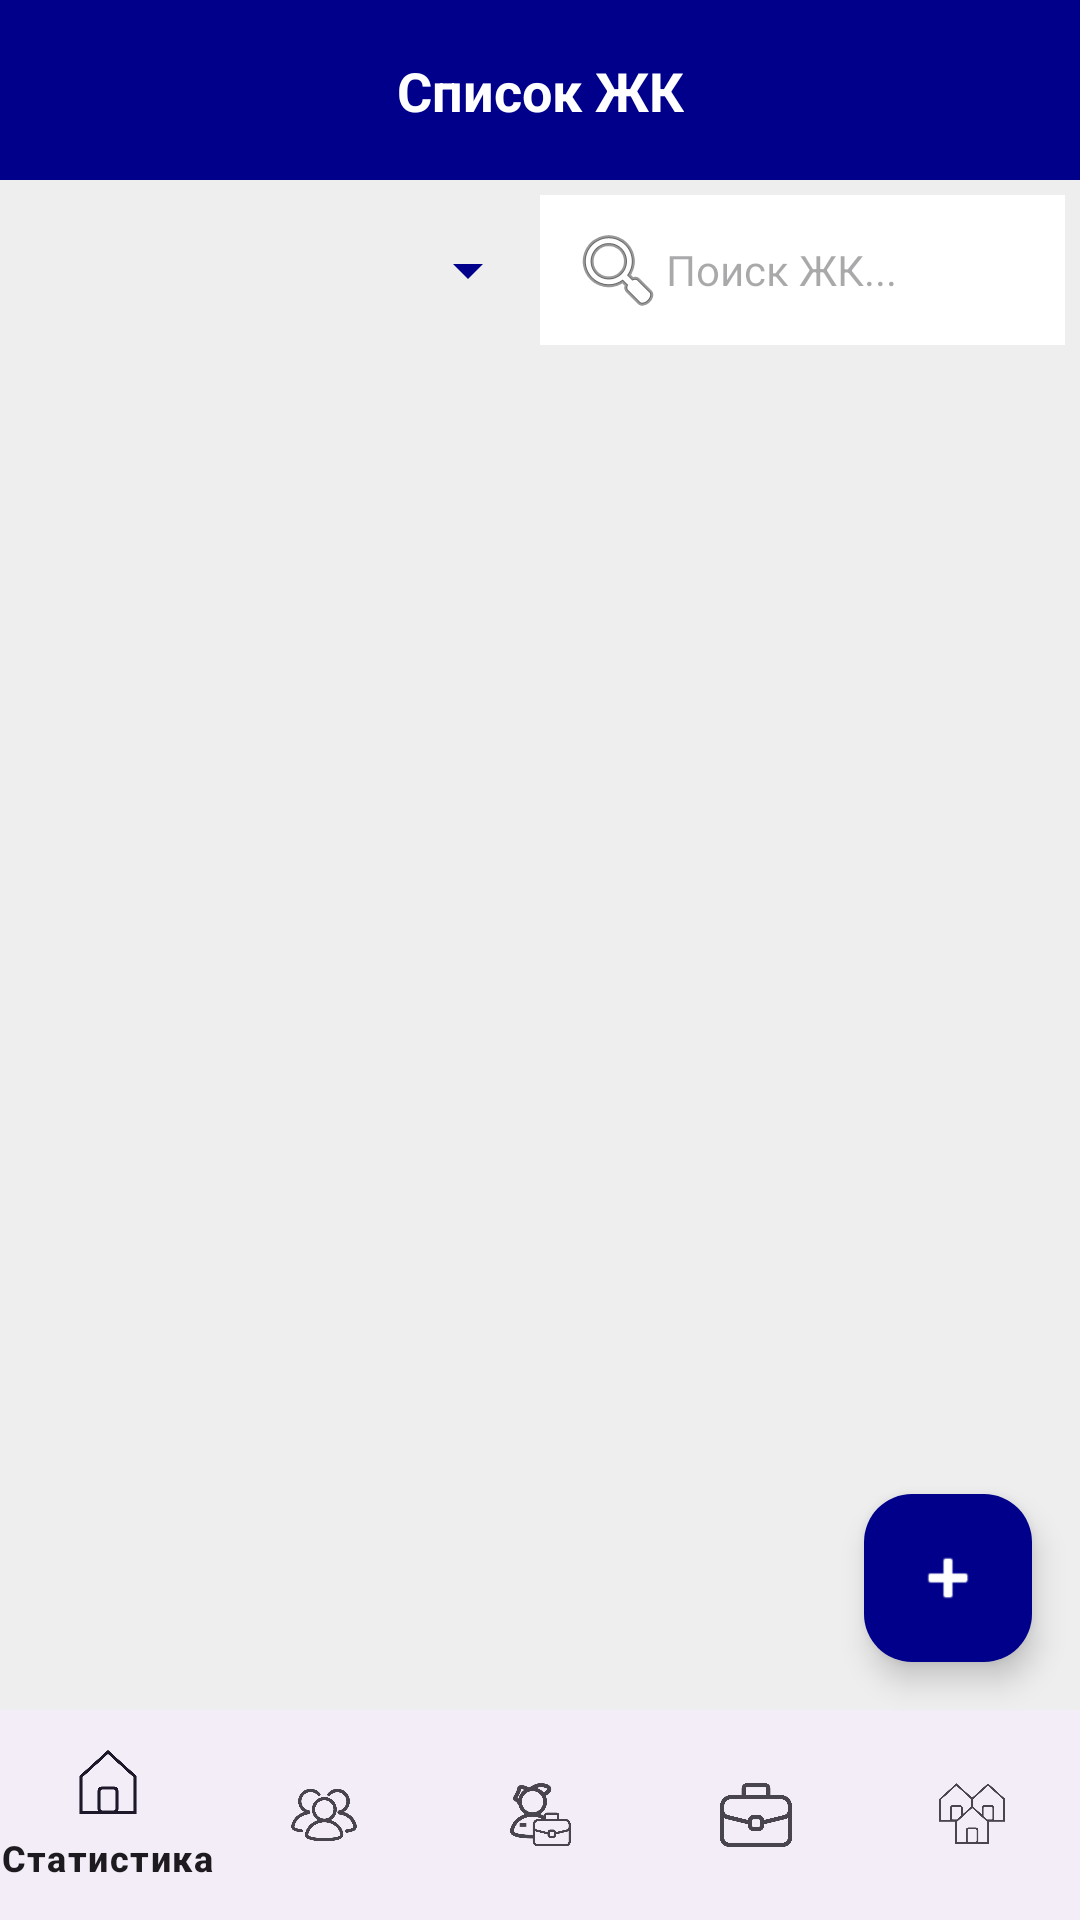

Point at icon controls on the screen. Image size 1080*1920, points as point (x, y).
add: point (948, 1578)
